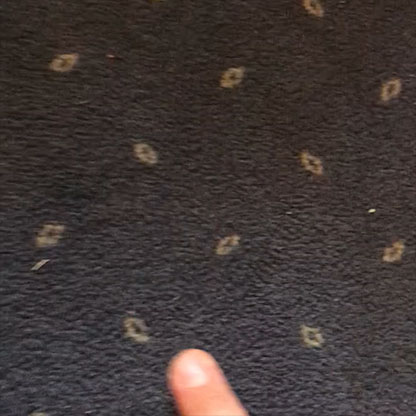fingertip: (156, 341, 233, 396)
